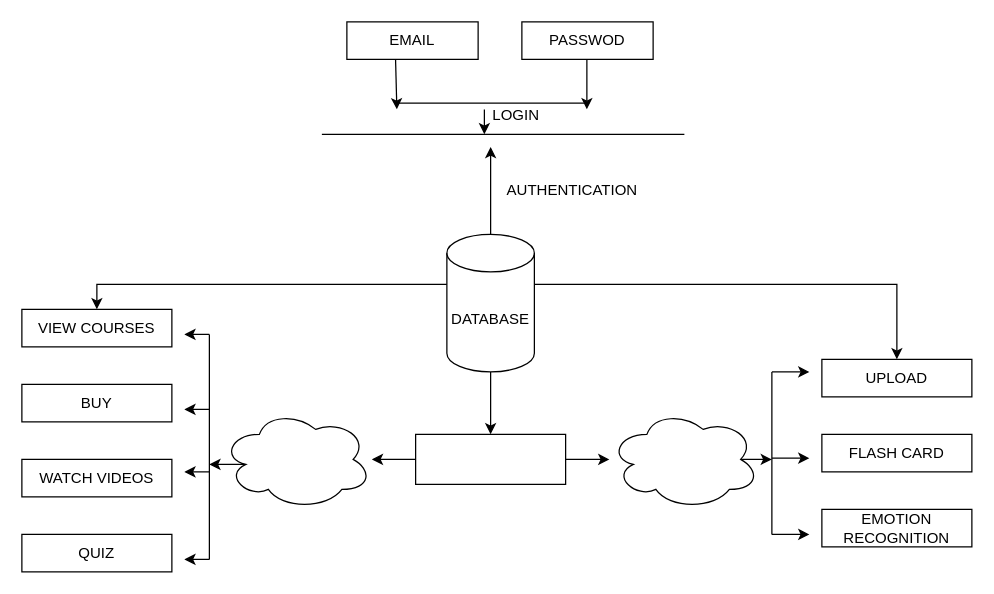
Some shapes in this 994 by 594 pixel diagram are drawn without their labels. The box of each missing label's shape, as (x1, y1, x2, y2) in pixels:
LEARN: (221, 408, 372, 509)
PROFILE CREATON: (608, 408, 759, 509)
USER: (414, 433, 566, 484)
